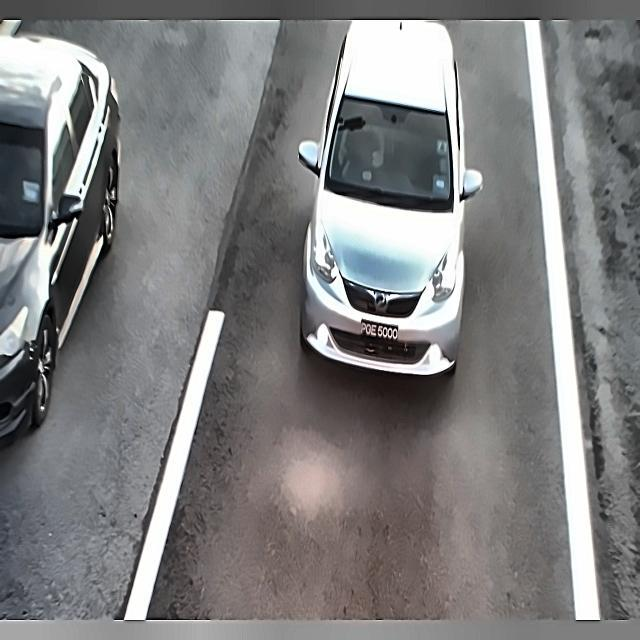car: (352, 318, 406, 345)
